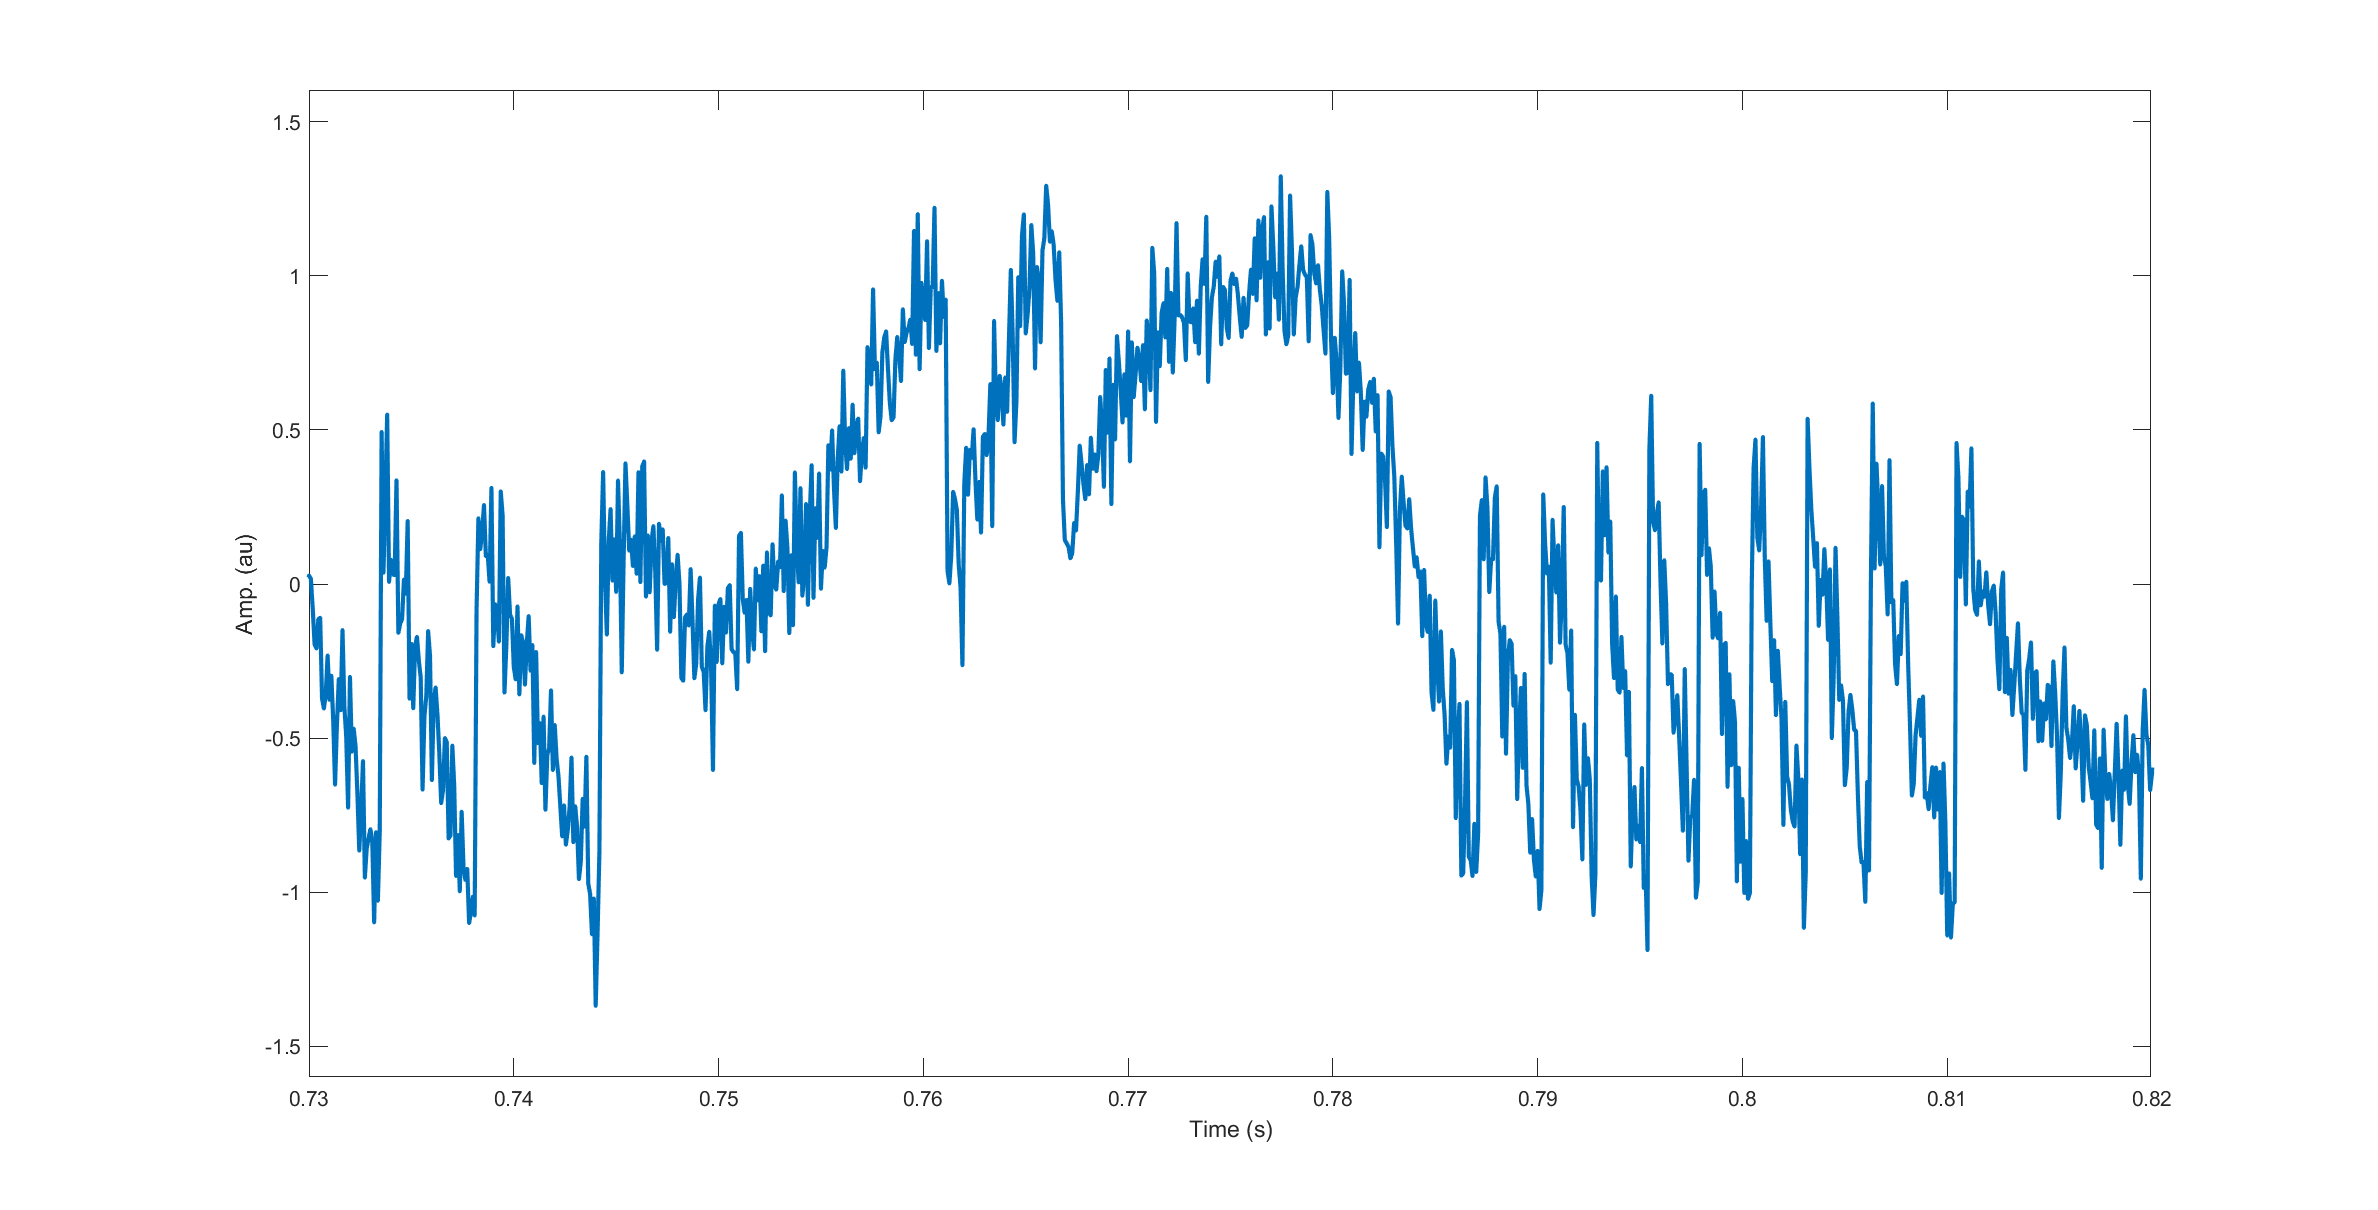negative_fringe: (586, 434, 705, 1012), (458, 485, 582, 929), (1947, 437, 2054, 946), (366, 400, 452, 938), (1860, 404, 1941, 900), (1796, 407, 1855, 929), (1636, 386, 1687, 948), (1466, 454, 1528, 897), (1580, 437, 1636, 897), (1742, 420, 1792, 892), (1532, 474, 1582, 900), (1690, 441, 1733, 891)
positive_fringe: (832, 182, 974, 674), (968, 174, 1076, 570)
